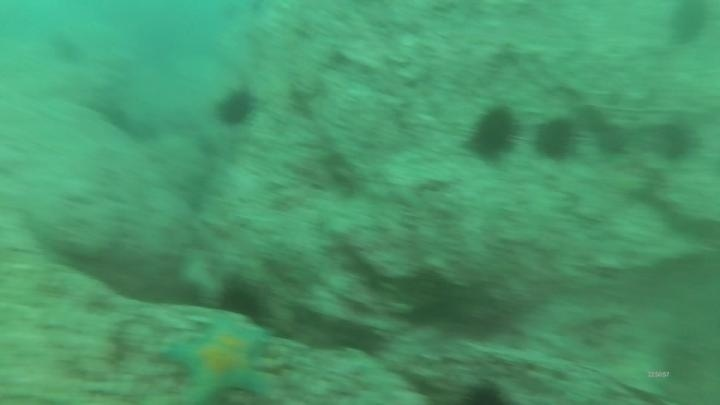echinus: (462, 102, 523, 165), (531, 114, 581, 164), (216, 278, 268, 325), (651, 118, 701, 166), (665, 0, 713, 48), (212, 84, 259, 131), (461, 378, 508, 405)
starfish: (158, 316, 280, 405)
